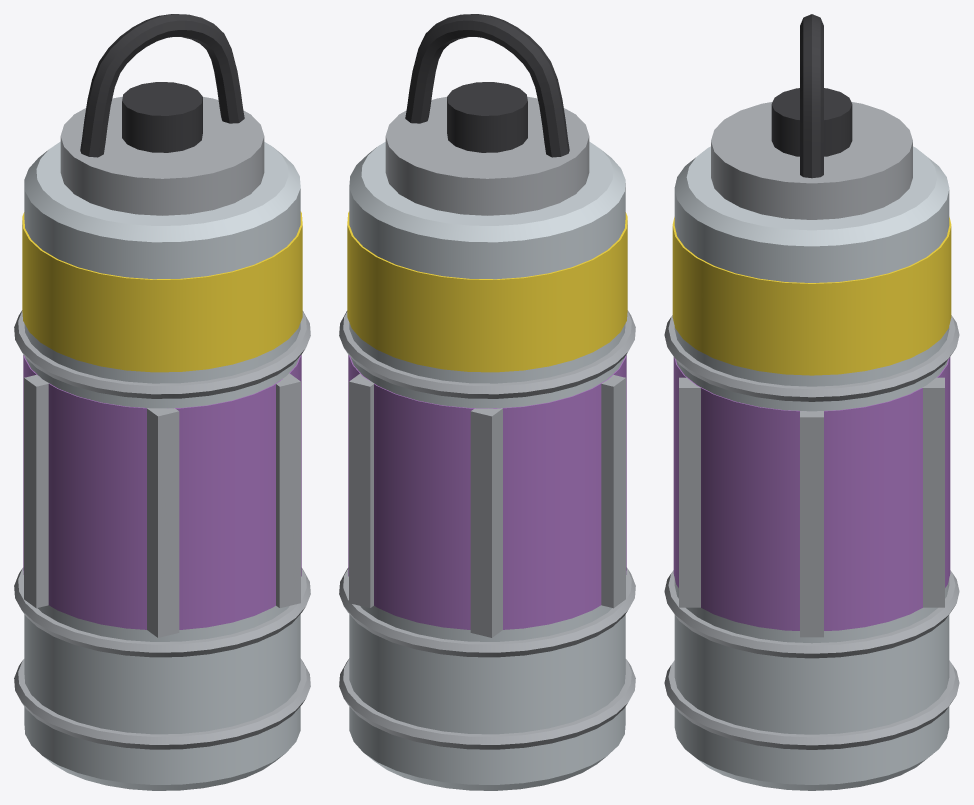
File: SM_ScrubberCartridge.fbx
The picture shows the model from 3 angles, left to right: view 1: azimuth 30°, elevation 25°; view 2: azimuth 150°, elevation 25°; view 3: azimuth 270°, elevation 25°; orthographic projection.
Visible parts, largest first — view 1: SM_ScrubberCartridge; view 2: SM_ScrubberCartridge; view 3: SM_ScrubberCartridge.
Part boxes in pixels (bbox=[...]): SM_ScrubberCartridge: bbox=[14, 14, 310, 790]; SM_ScrubberCartridge: bbox=[339, 14, 635, 790]; SM_ScrubberCartridge: bbox=[664, 14, 959, 790].
Bounding box in the file's own units: 0.15 × 0.391 × 0.146.
